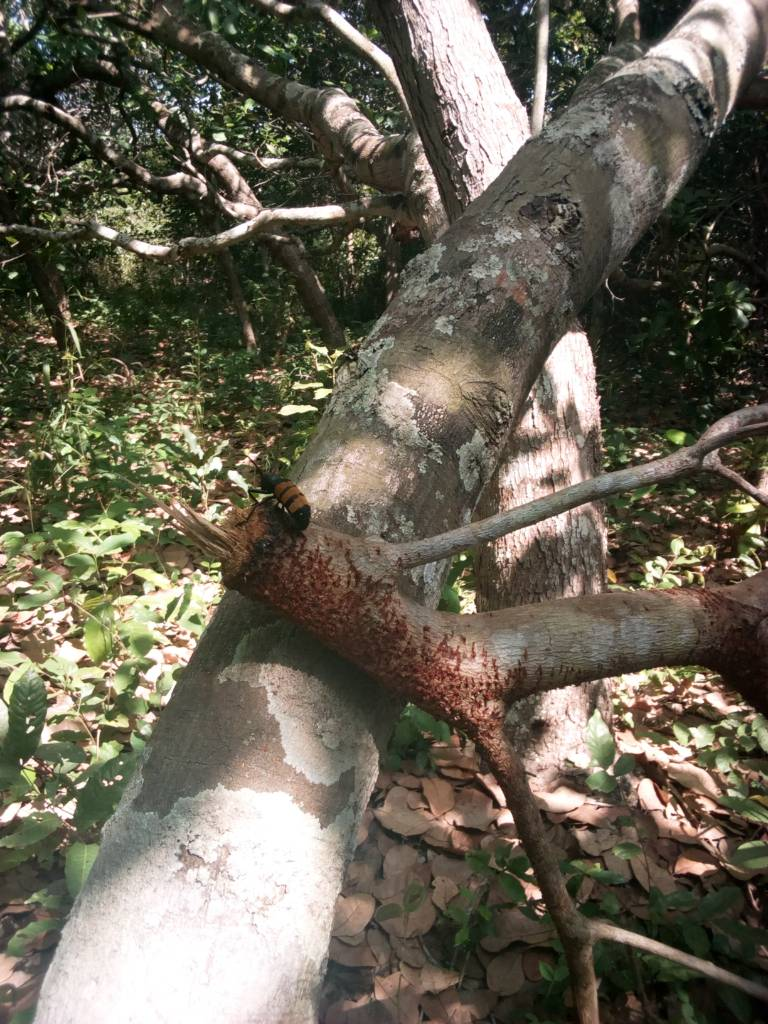Analepse trifasciata: (144, 480, 308, 614)
